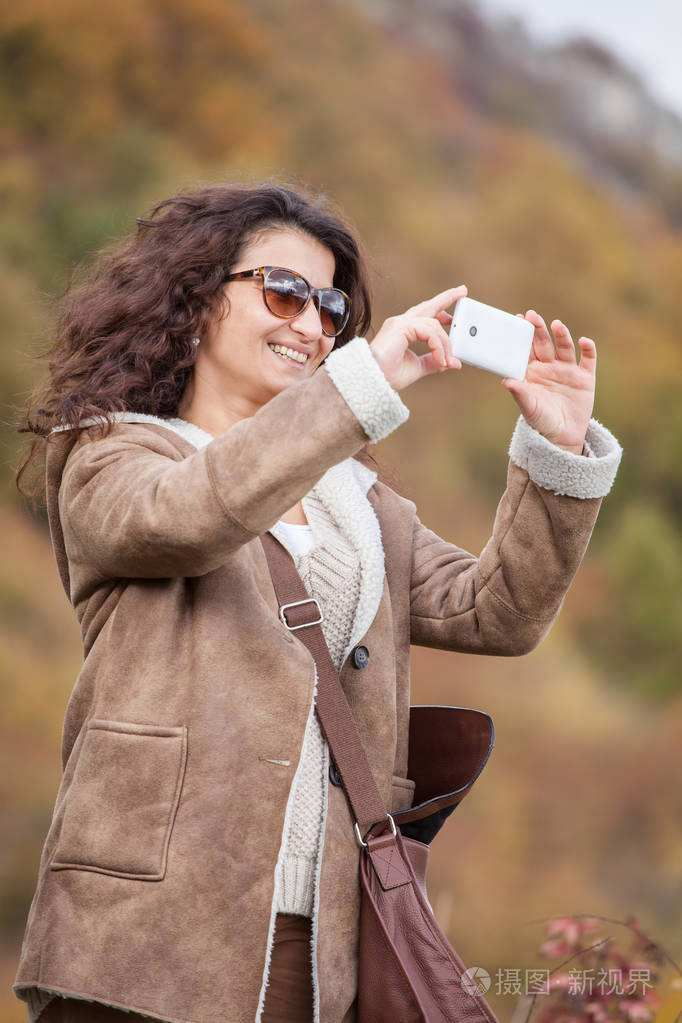taking photos: (374, 283, 605, 447)
